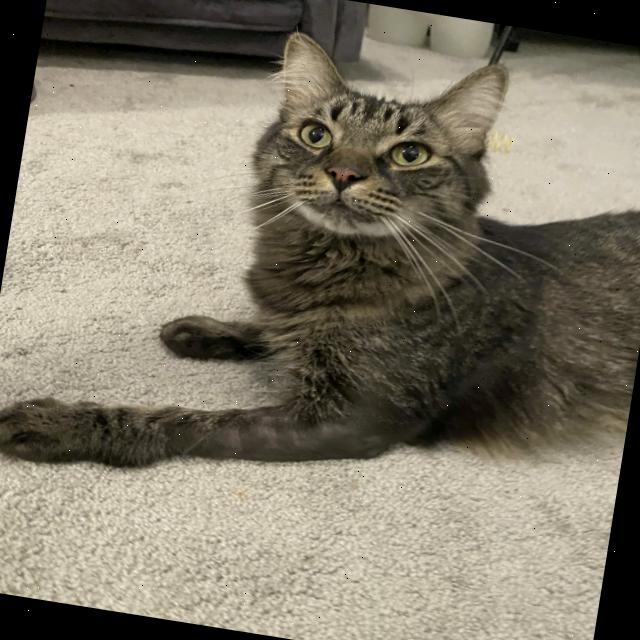maine_coon_cat: (218, 11, 550, 316)
